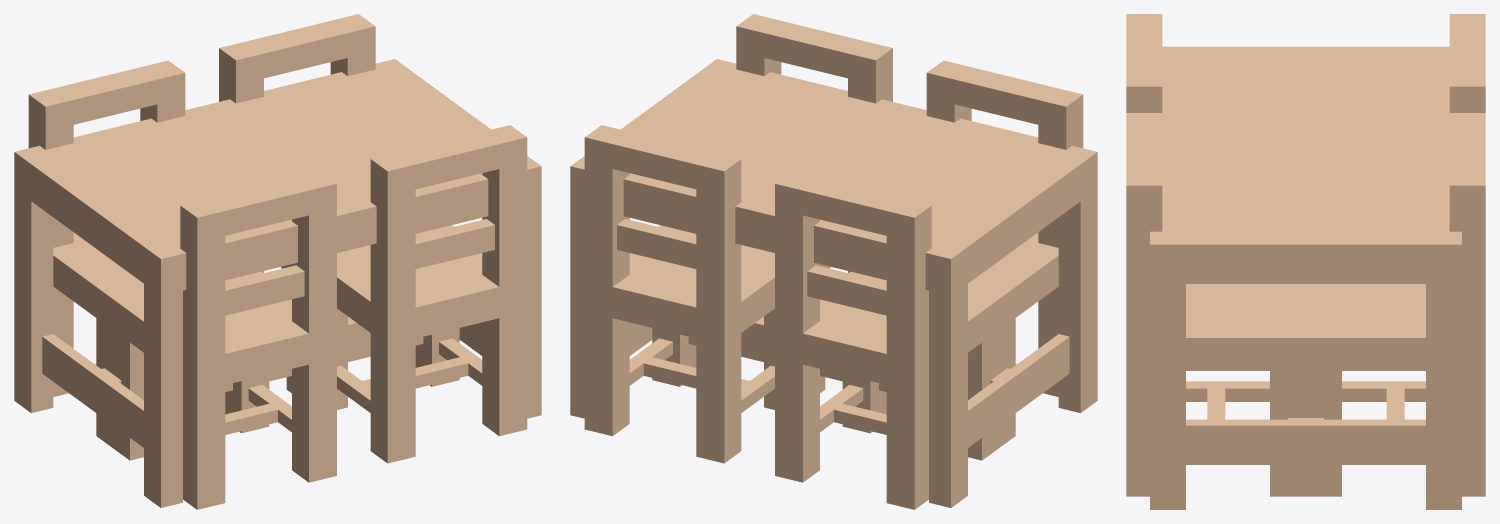
Rendered from dining-4.glb.
3 views of the same model, side by side, from view 1: azimuth 30°, elevation 25°; view 2: azimuth 150°, elevation 25°; view 3: azimuth 270°, elevation 25° (orthographic). The views are drawn at different scales.
Parts seen in each view (by area): view 1: table(Clone); view 2: table(Clone); view 3: table(Clone).
Boxes of the visible parts, x1,y1,x2,y2 form: table(Clone): (14, 14, 541, 509); table(Clone): (570, 14, 1097, 509); table(Clone): (1126, 14, 1485, 509).
Bounding box in the file's own units: 1.2 × 0.8801 × 0.92.
